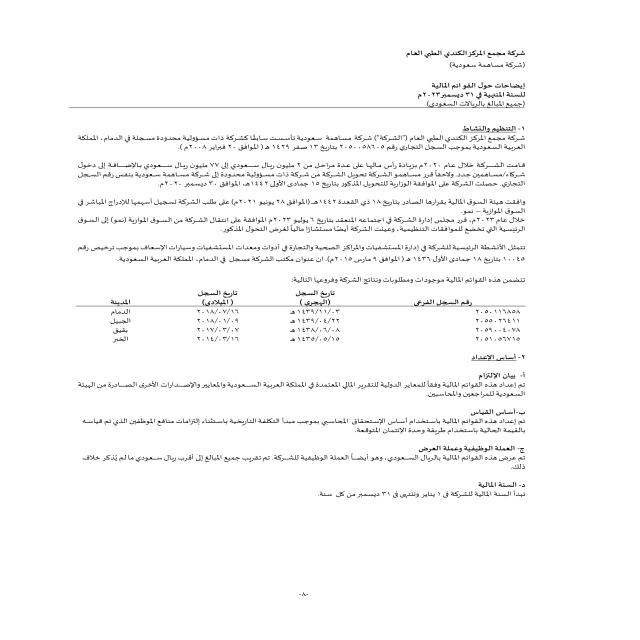notes: (424, 79, 527, 91)
text: (59, 118, 533, 508)
